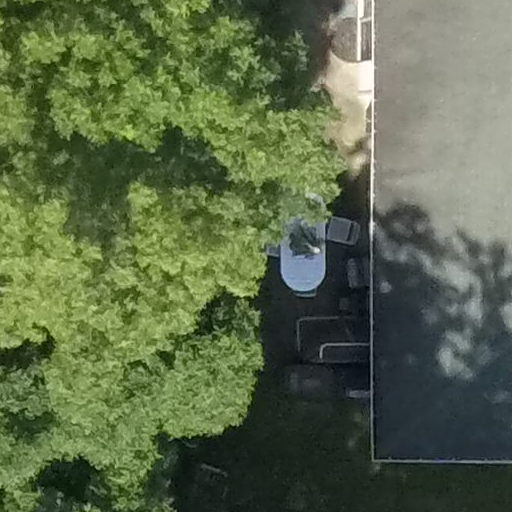table: (278, 168, 330, 296)
